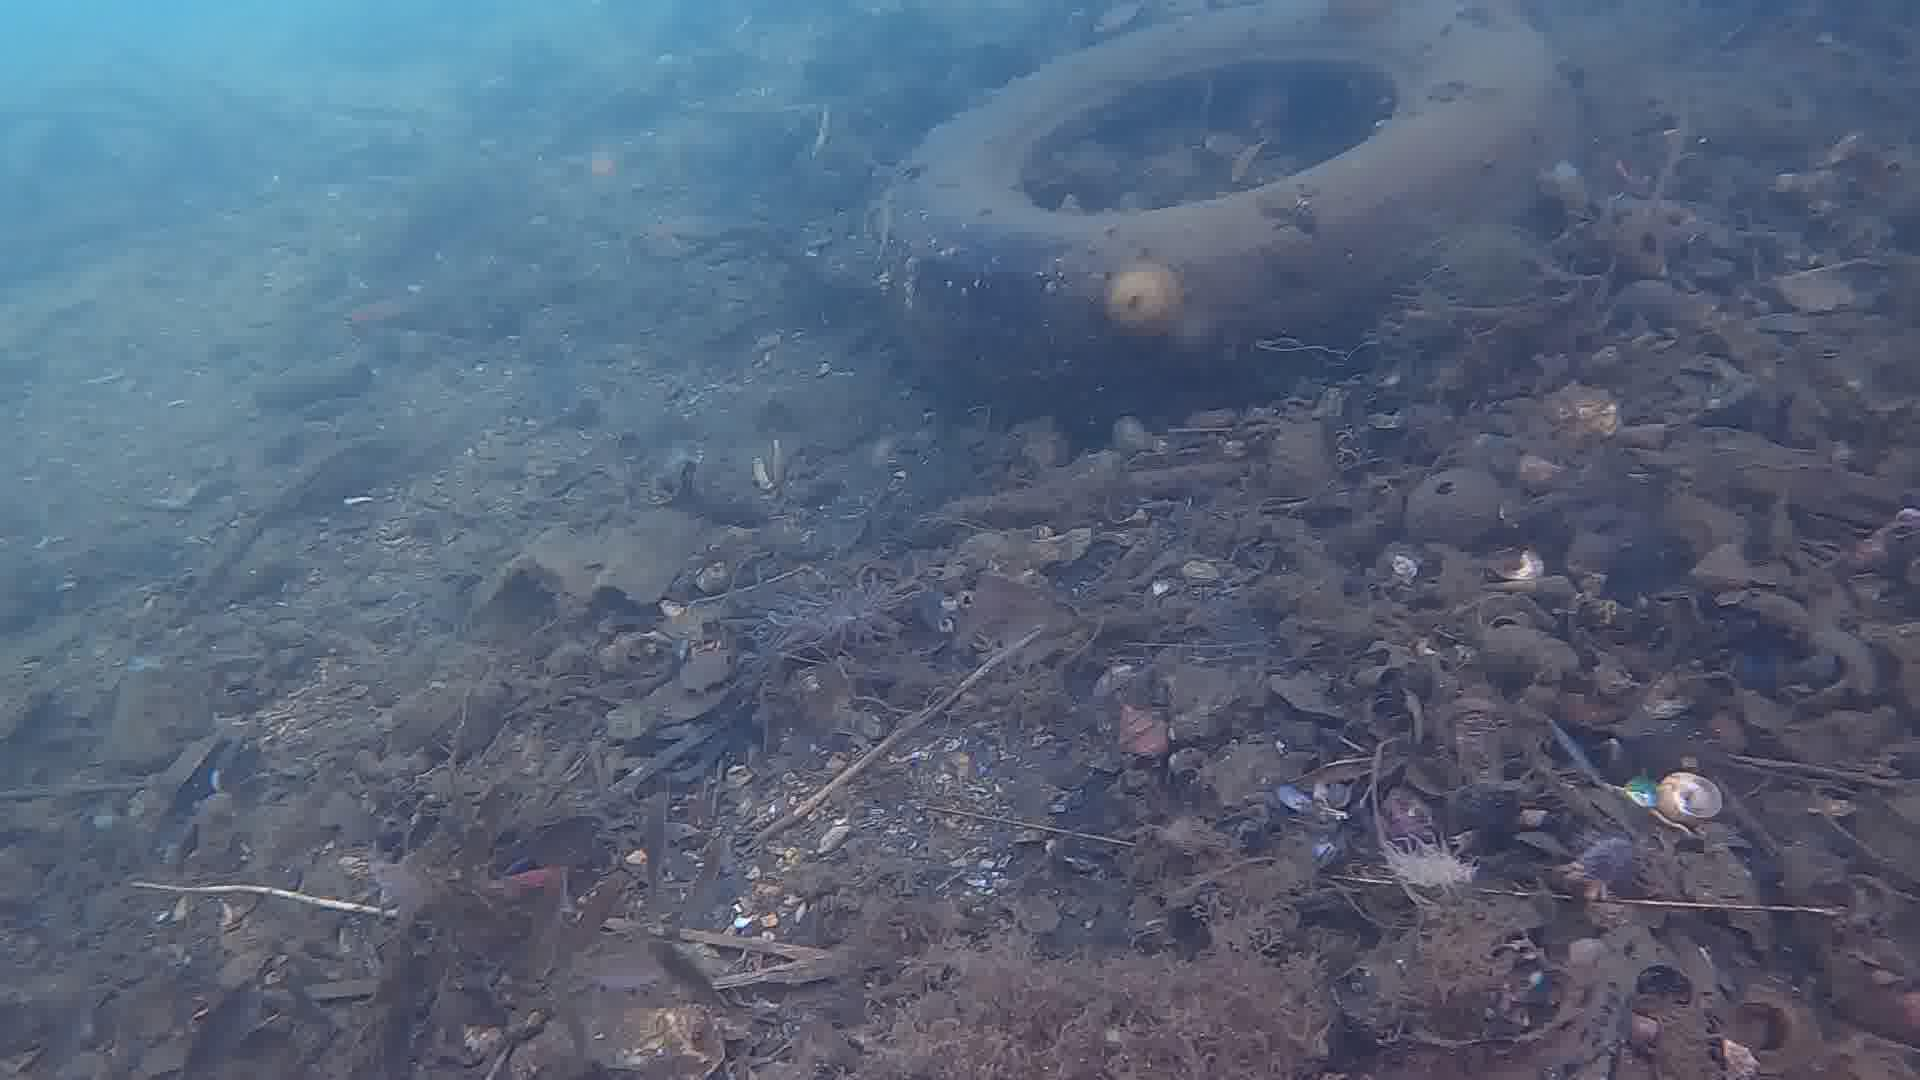tire: (864, 7, 1580, 414)
